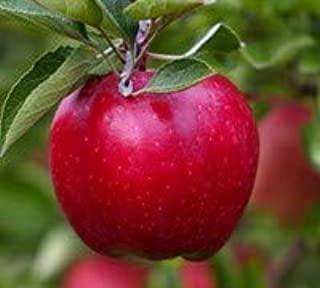apple: (48, 73, 256, 261)
